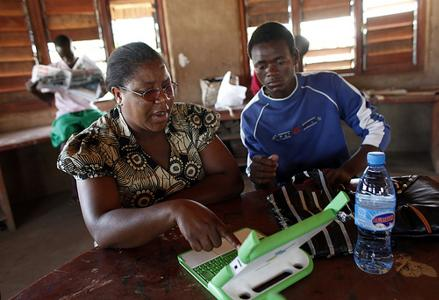person: (59, 42, 245, 251)
